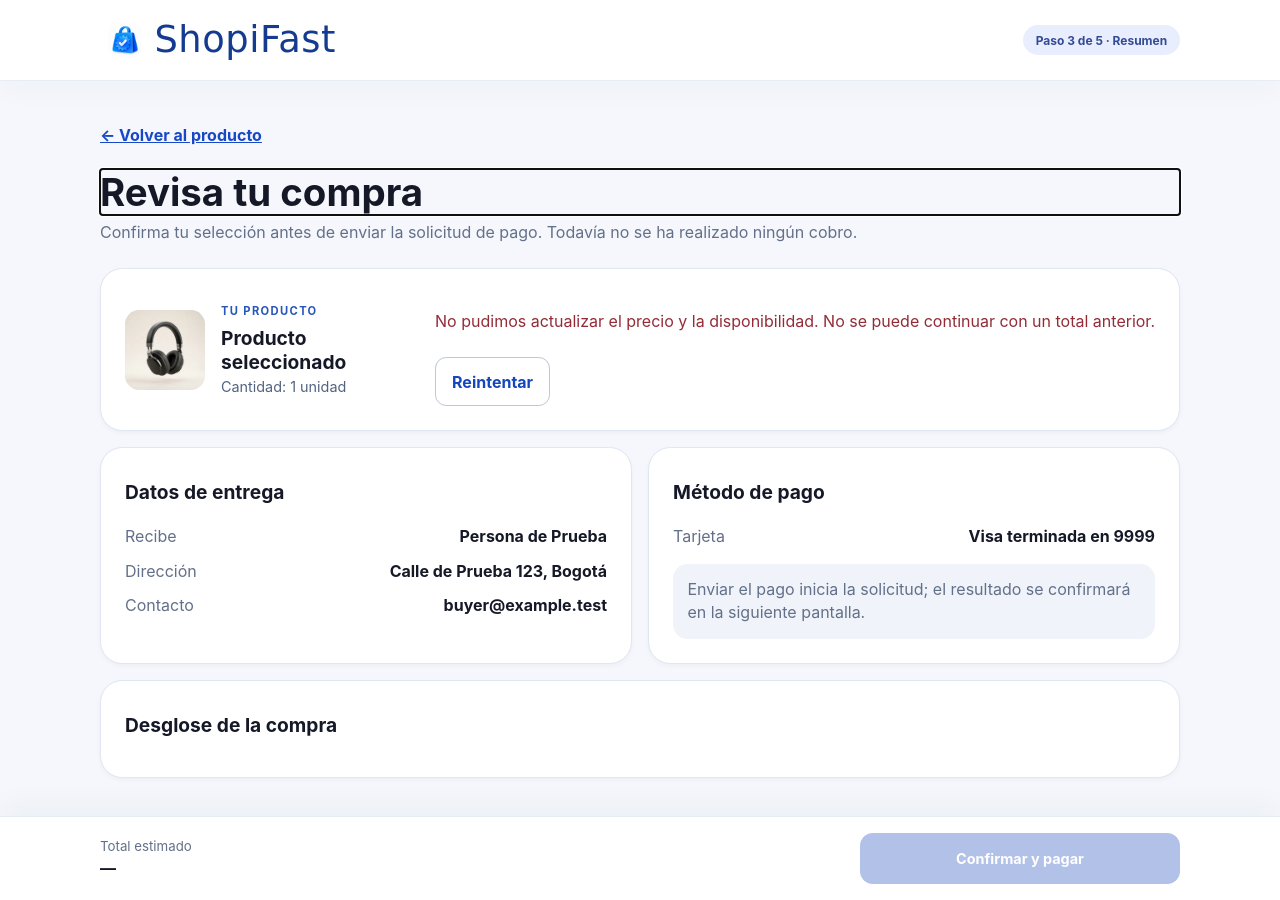
Test: blocks stale totals after a failed quote and retries without a payment POST
Expected: the text "No pudimos actualizar el precio" is shown, [435,311,1155,331]
Click the button "Reintentar" at (493, 382), box [435,357,550,406]
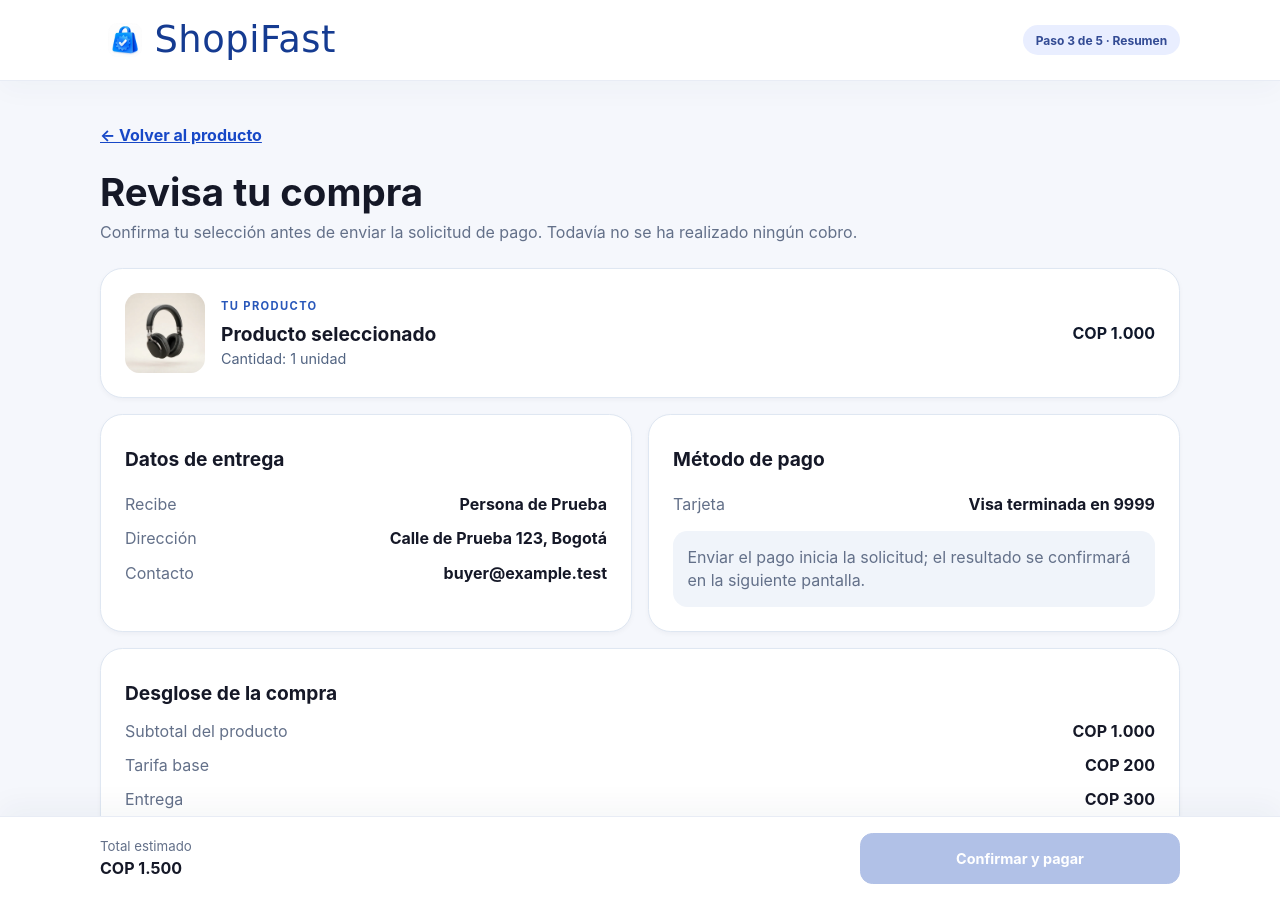
Expected: the button "Confirmar y pagar" is disabled, [860,833,1180,884]
Now the text "Total estimado" is shown 2 times, box [125,841,247,865]; [100,838,192,854]
Now the footer shows "COP", box [100,858,182,878]
